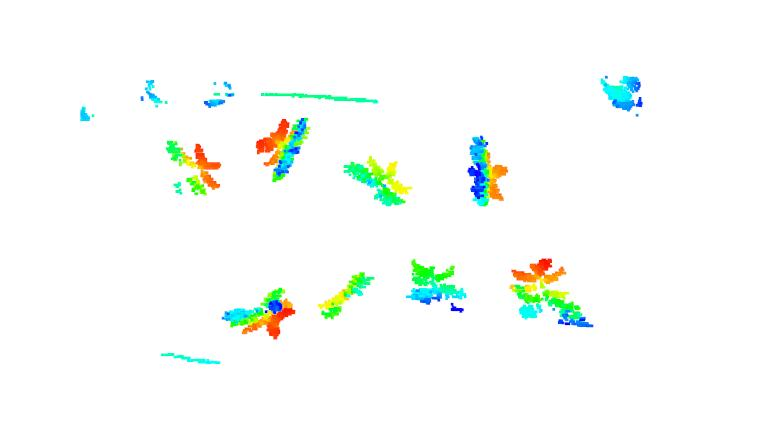chickpea: (507, 252, 596, 328), (218, 285, 296, 340), (253, 115, 314, 184), (340, 152, 413, 209), (161, 139, 226, 199), (464, 132, 510, 206), (405, 258, 468, 310), (315, 270, 377, 320)
